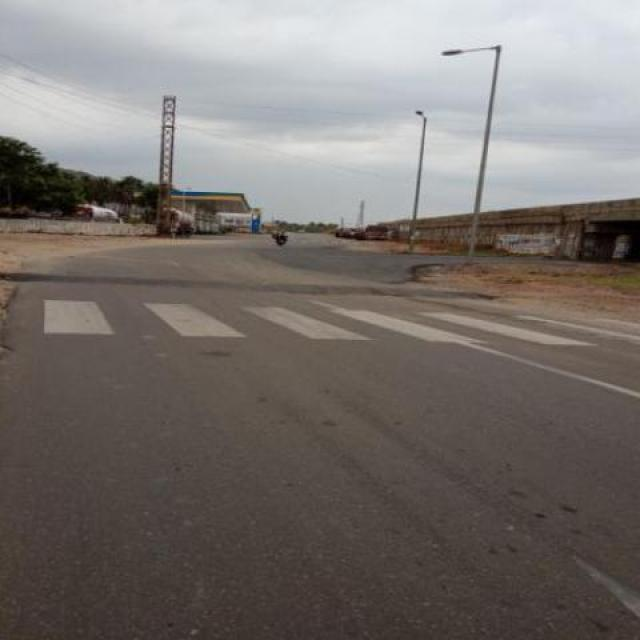Pothole: (197, 346, 234, 359), (0, 341, 16, 357)
Unmarked Bump: (0, 270, 497, 301)
